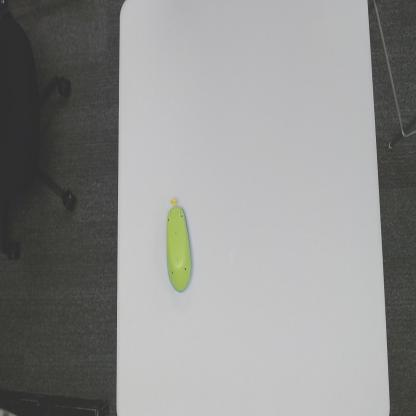Boat: (163, 191, 197, 300)
